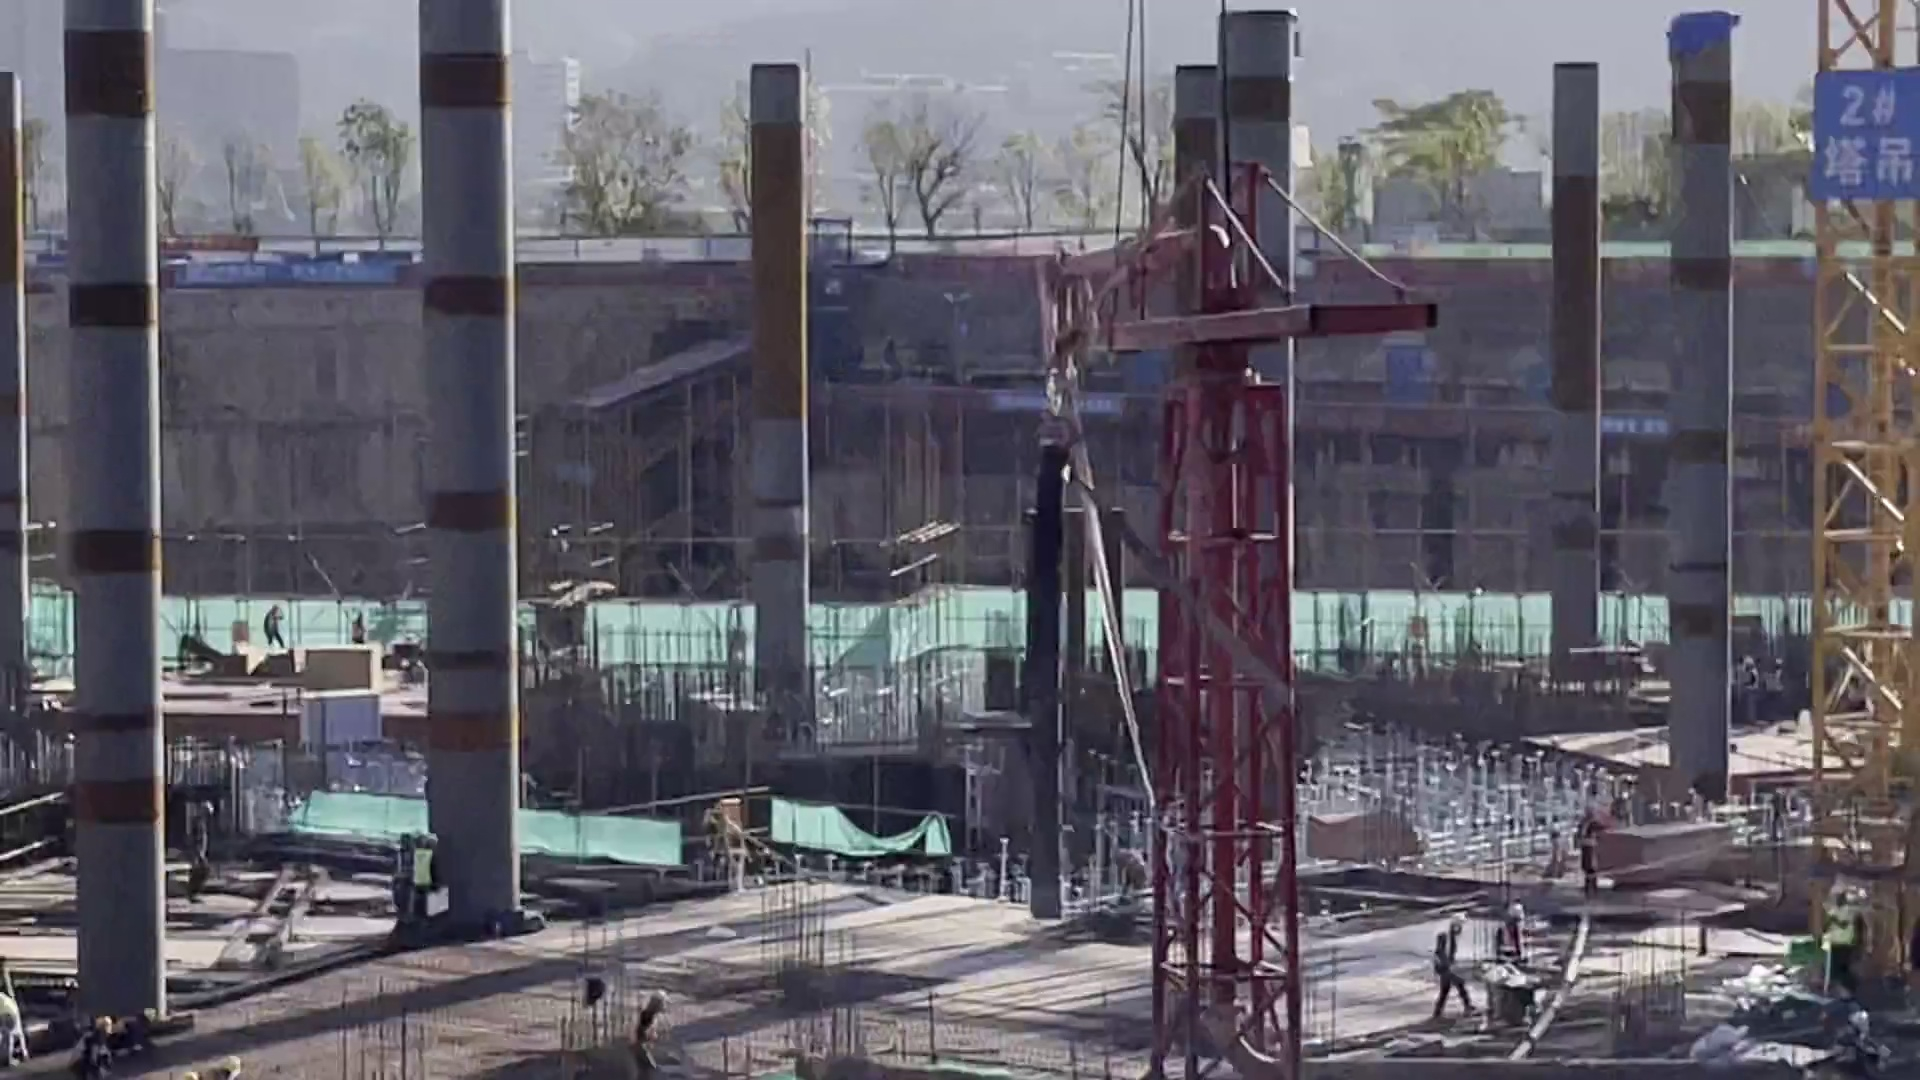board: (300, 644, 377, 687)
helmet: (140, 1009, 158, 1026), (1510, 905, 1526, 922), (98, 1019, 112, 1034), (1448, 915, 1465, 927), (1831, 885, 1847, 895), (648, 991, 669, 999), (1742, 657, 1754, 664)
person: (1812, 888, 1857, 1011), (1425, 915, 1469, 1025), (100, 1000, 165, 1054), (184, 800, 217, 905), (632, 990, 670, 1075), (1573, 804, 1610, 891), (68, 1011, 113, 1080), (1489, 903, 1531, 975), (1737, 656, 1764, 719), (256, 603, 288, 652)
slogan: (176, 264, 400, 287), (991, 392, 1131, 422), (1597, 413, 1667, 440)
vest: (1828, 907, 1850, 941), (1499, 929, 1522, 958), (1575, 820, 1595, 846), (639, 1015, 656, 1041), (1745, 671, 1757, 691)
wood: (1601, 818, 1719, 883), (1315, 810, 1419, 858), (224, 652, 260, 677), (265, 652, 295, 680)
